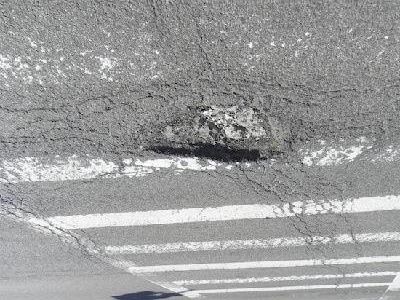pothole: (134, 100, 312, 166)
